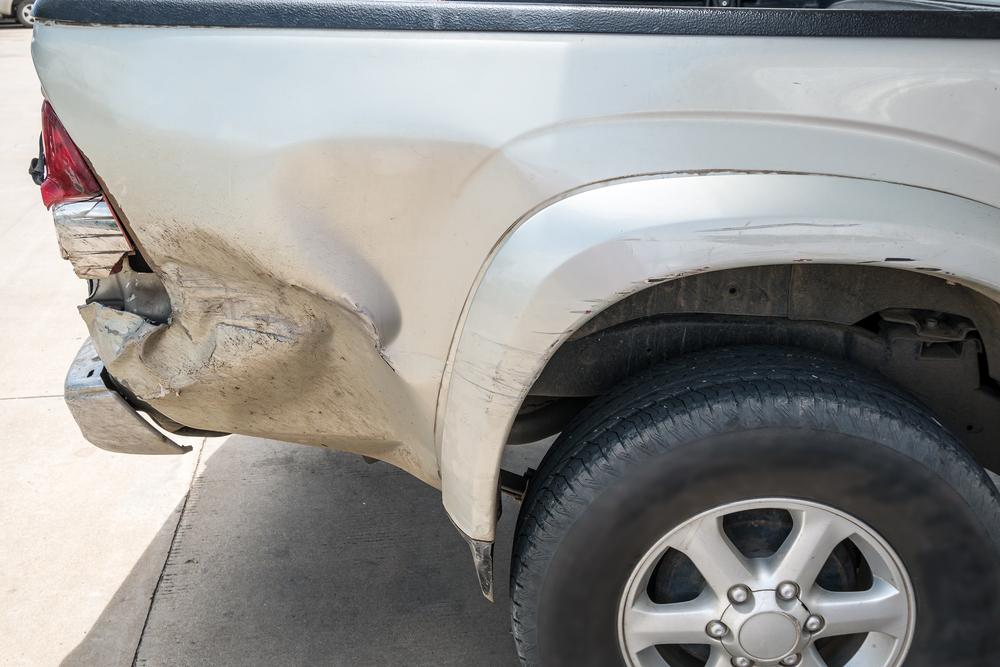dent: (111, 132, 568, 458)
lamp broken: (38, 105, 176, 326)
scratch: (474, 206, 1000, 419)
